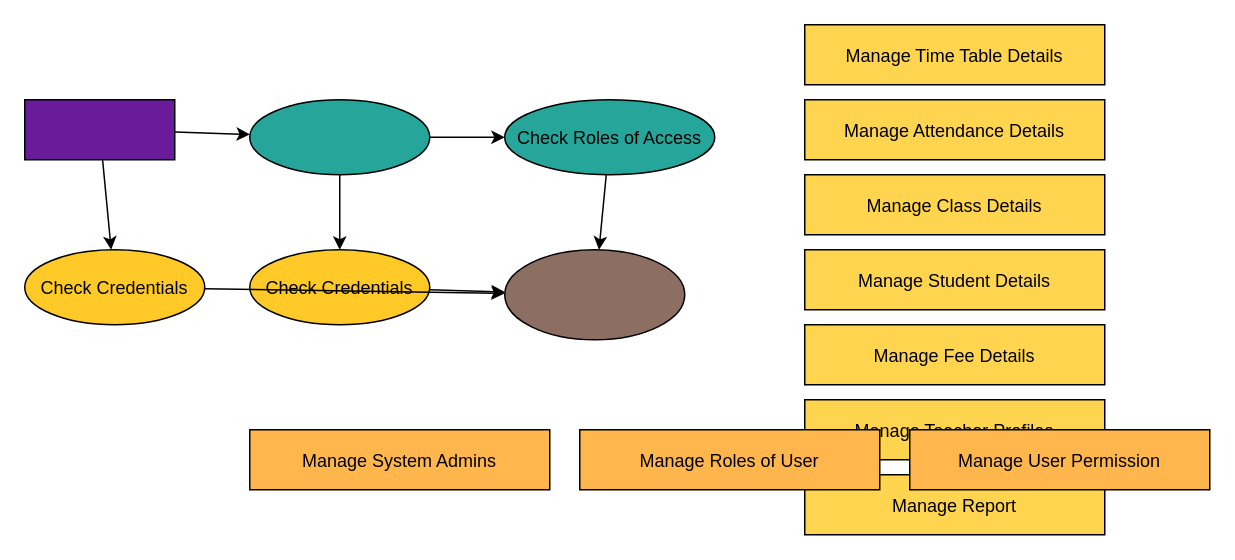
Some shapes in this 1235 by 560 pixel diagram are drawn without their labels. Here are the shapes that lost their labels. From the top down, the centre of each, then its label:
At pixel 99 129: "ADMIN".
At pixel 339 136: "Login to System".
At pixel 594 294: "Manager Modules".
